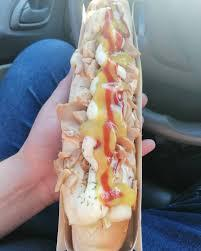Completos: (48, 1, 144, 251)
